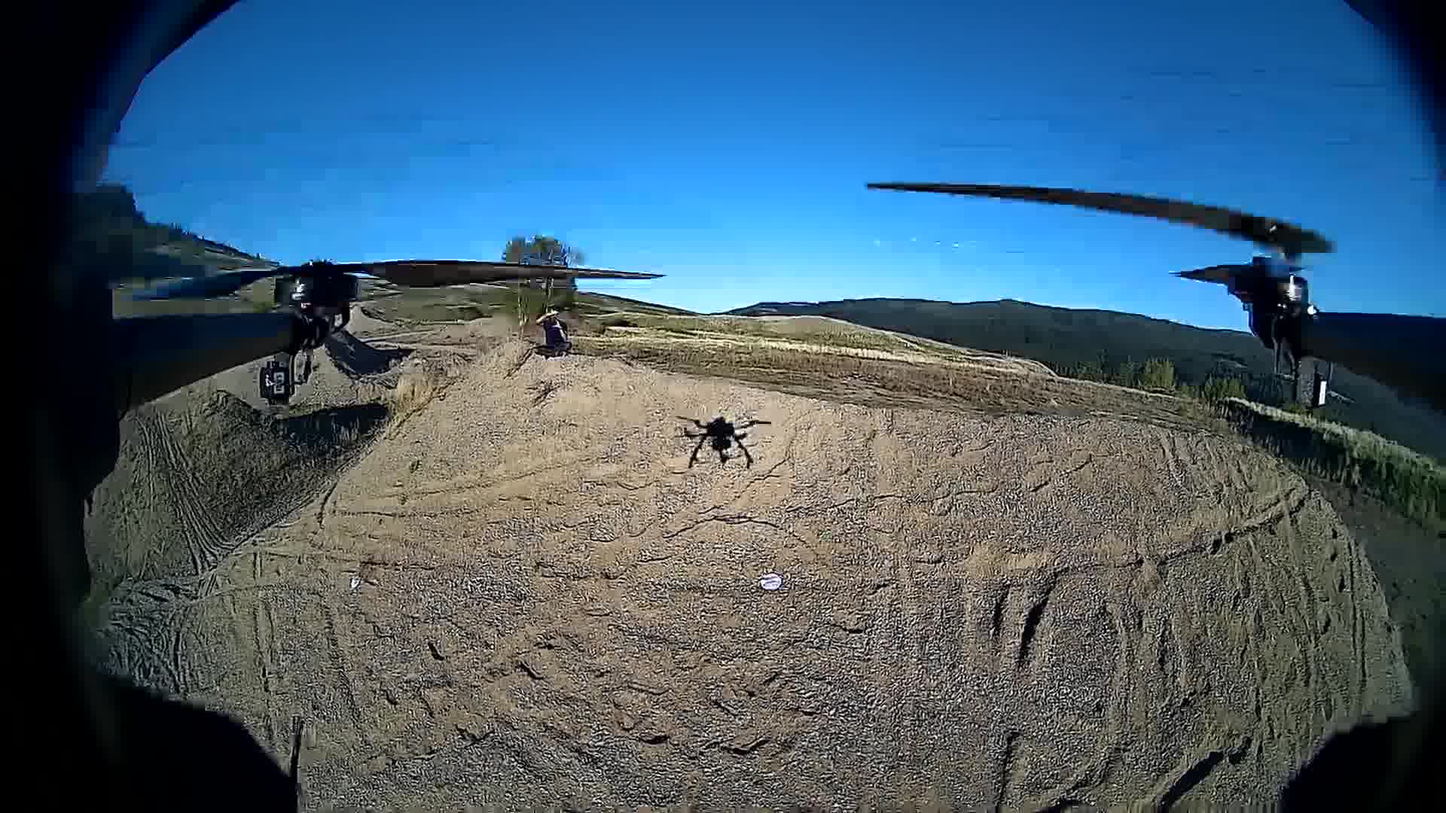Target: (760, 574, 779, 589)
